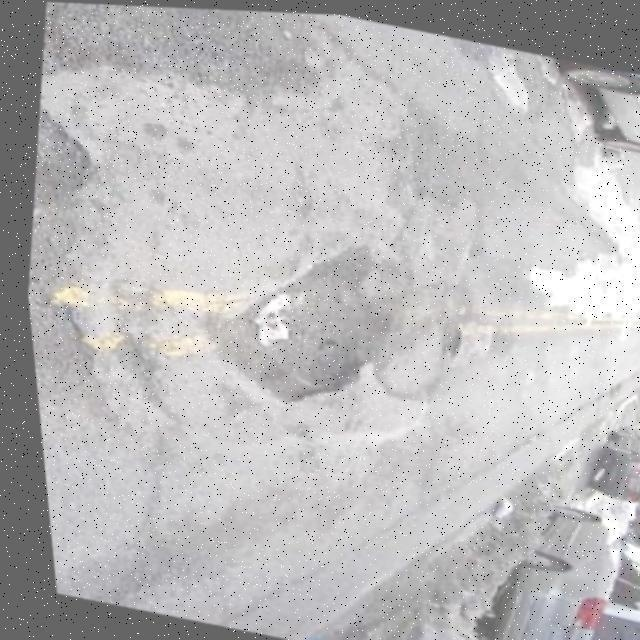pothole: (184, 209, 425, 423), (428, 310, 463, 356)
